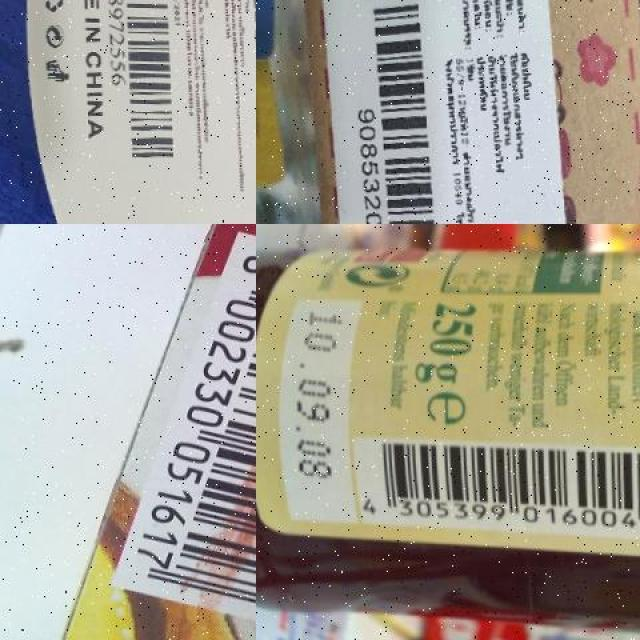Barcode: (92, 225, 256, 640), (354, 435, 640, 533), (346, 0, 446, 224), (103, 0, 176, 168)
